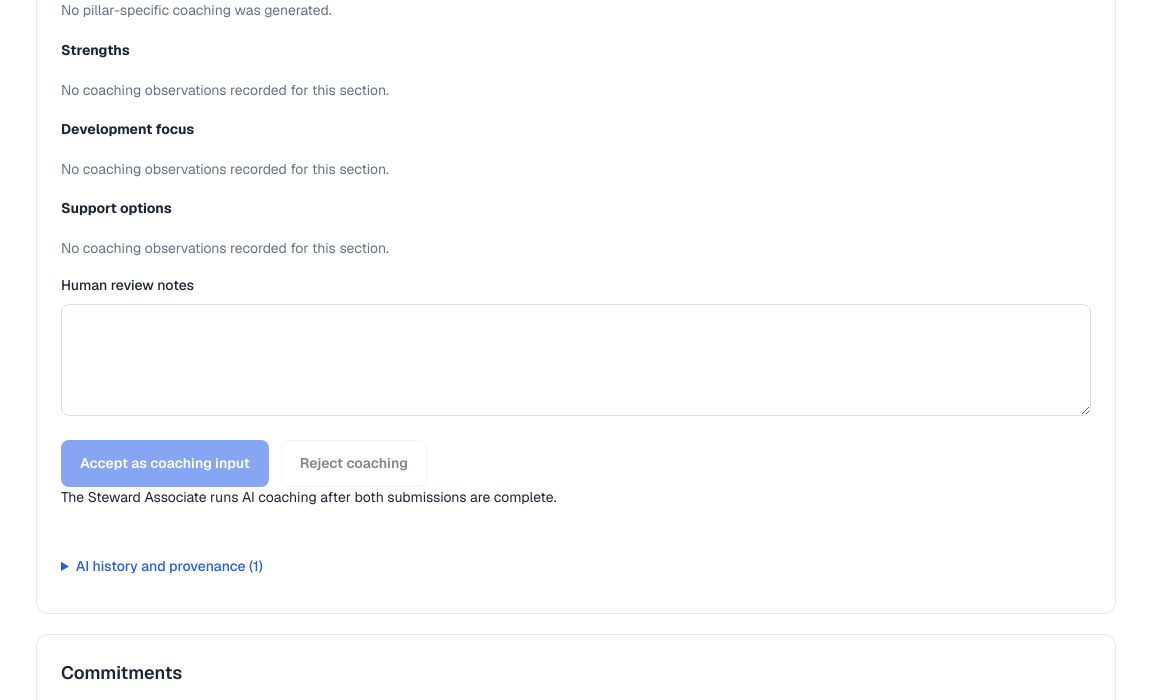
preserves the ACCEPTED decision payload
The width and height of the screenshot is (1152, 700).
(page scrolled)
Type "Human judgement only" into the text box labelled "Human review notes".
click(576, 360); type("Human judgement only")  # box [61,304,1091,416]
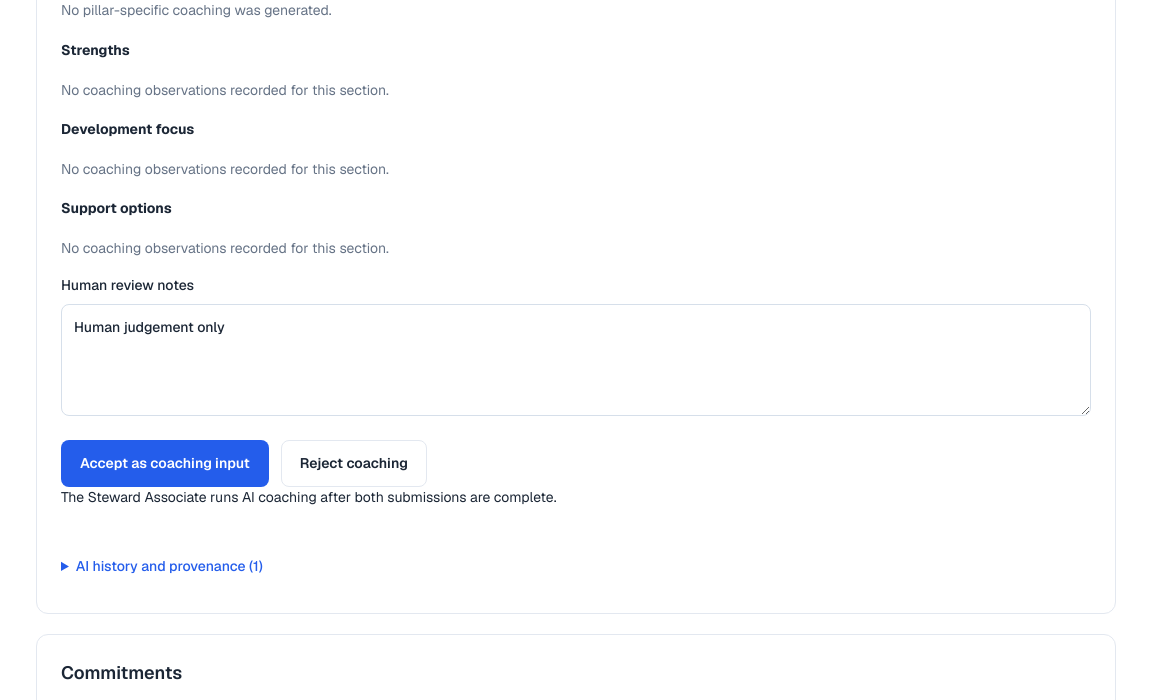
Click the button "Accept as coaching input".
click(165, 464)  # box [61,440,269,487]
(page scrolled)
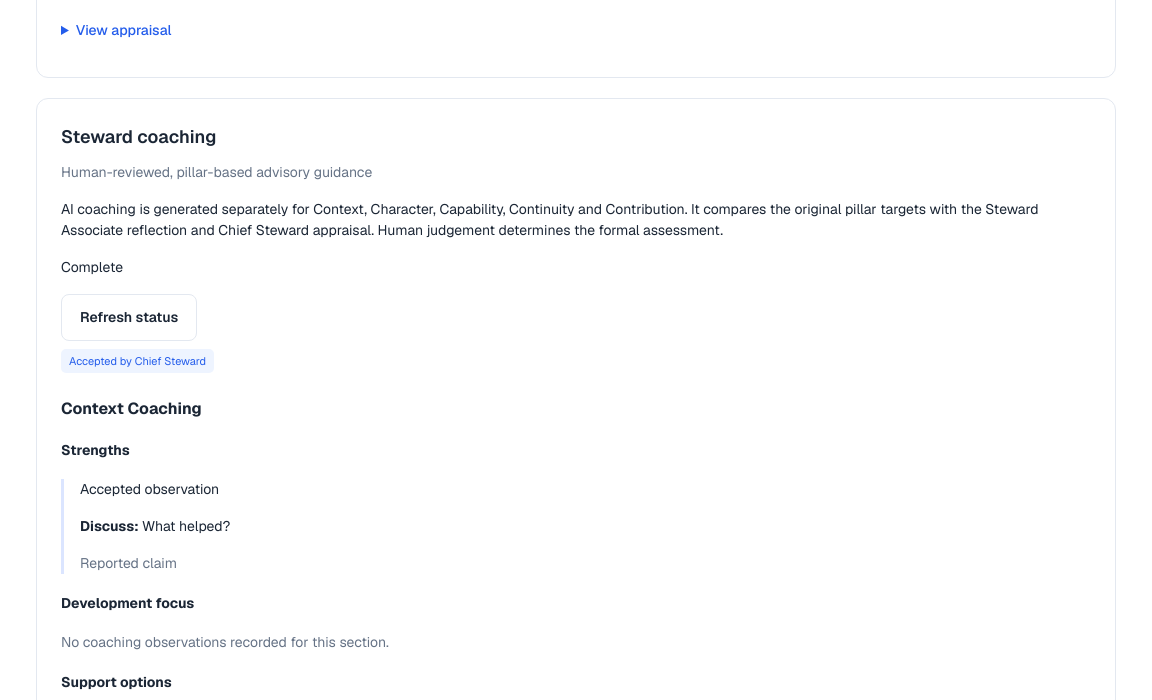
Check: the text "Accepted by Chief Steward" is shown, box [61,348,214,373]
